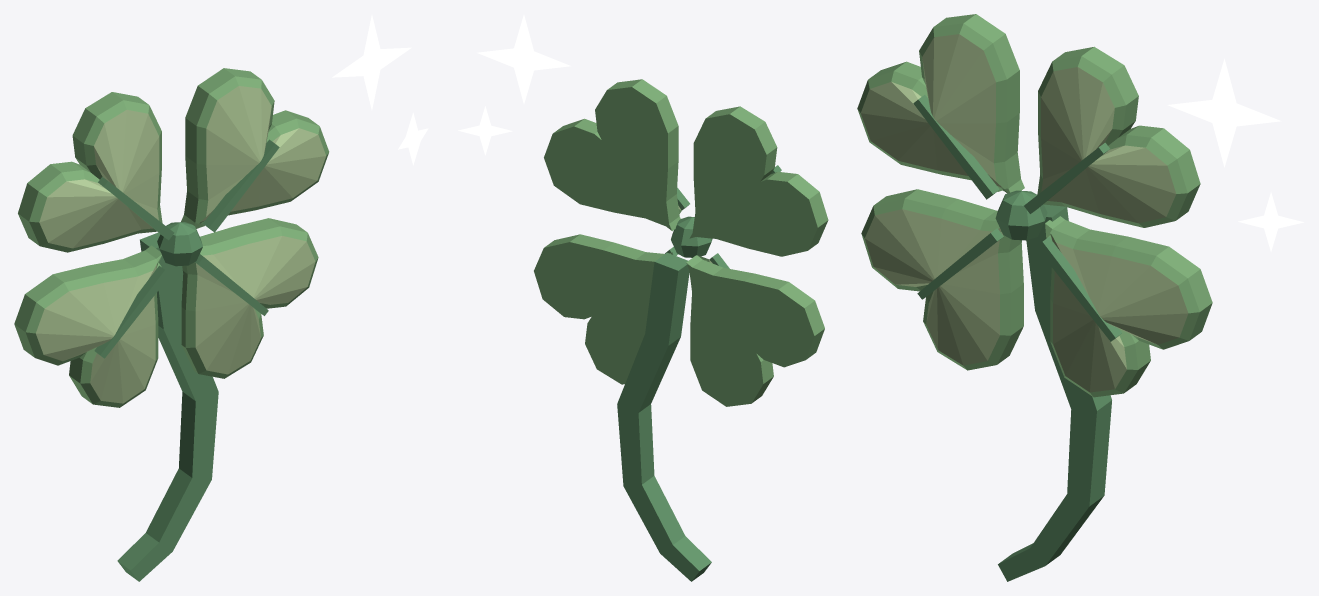
The model's file is item_lucky.glb.
The picture shows the model from 3 angles, left to right: view 1: azimuth 30°, elevation 25°; view 2: azimuth 150°, elevation 25°; view 3: azimuth 330°, elevation 25°; orthographic projection. The views are drawn at different scales.
Visible parts, largest first — view 1: item_lucky; view 2: item_lucky; view 3: item_lucky.
Boxes of the visible parts, bbox=[...] form: item_lucky: bbox=[14, 15, 428, 581]; item_lucky: bbox=[458, 15, 828, 581]; item_lucky: bbox=[857, 14, 1303, 581].
Bounding box in the file's own units: 0.7712 × 0.9825 × 0.1375.
